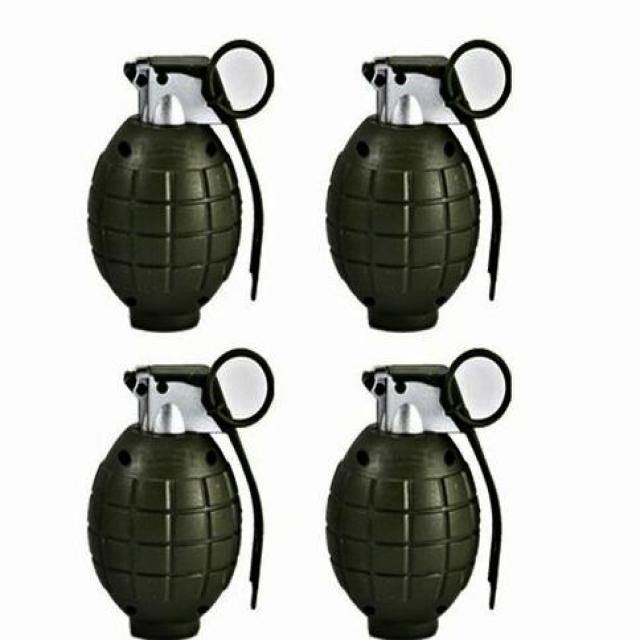grenade: (325, 350, 514, 640), (86, 350, 274, 640), (326, 44, 513, 334), (87, 46, 273, 334)
